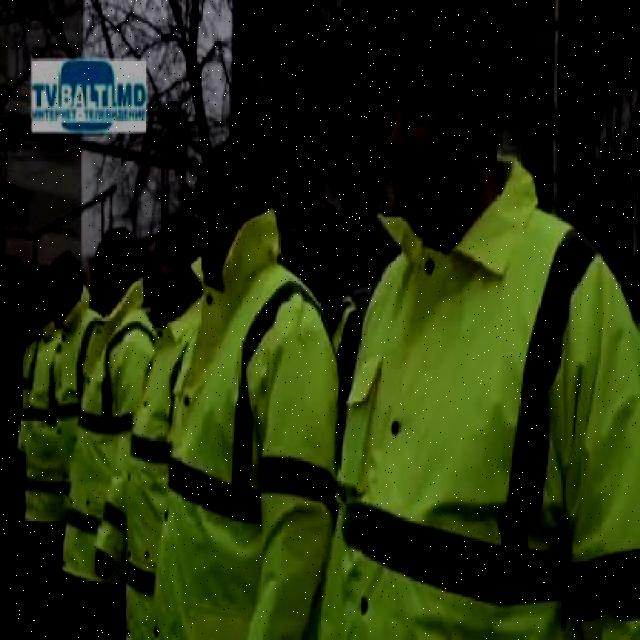Mask: (316, 154, 638, 638), (136, 204, 338, 638), (94, 286, 204, 639), (58, 278, 156, 590), (22, 310, 73, 530)
